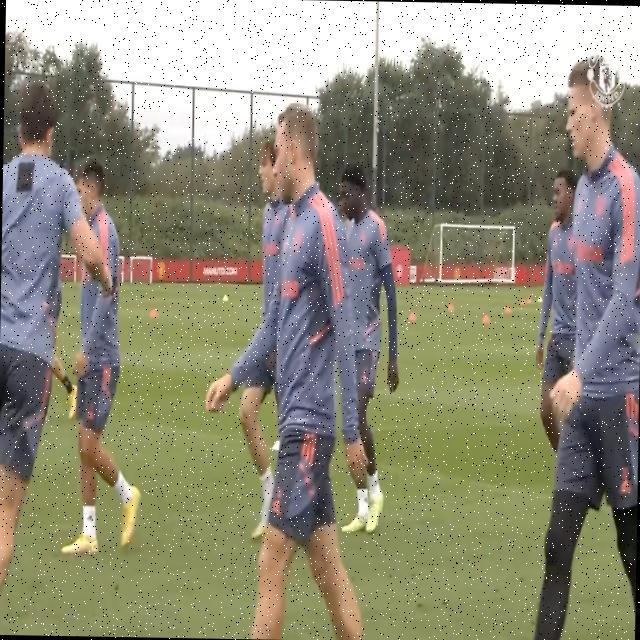Adidas: (618, 476, 632, 496), (270, 500, 284, 518), (85, 509, 94, 524)
